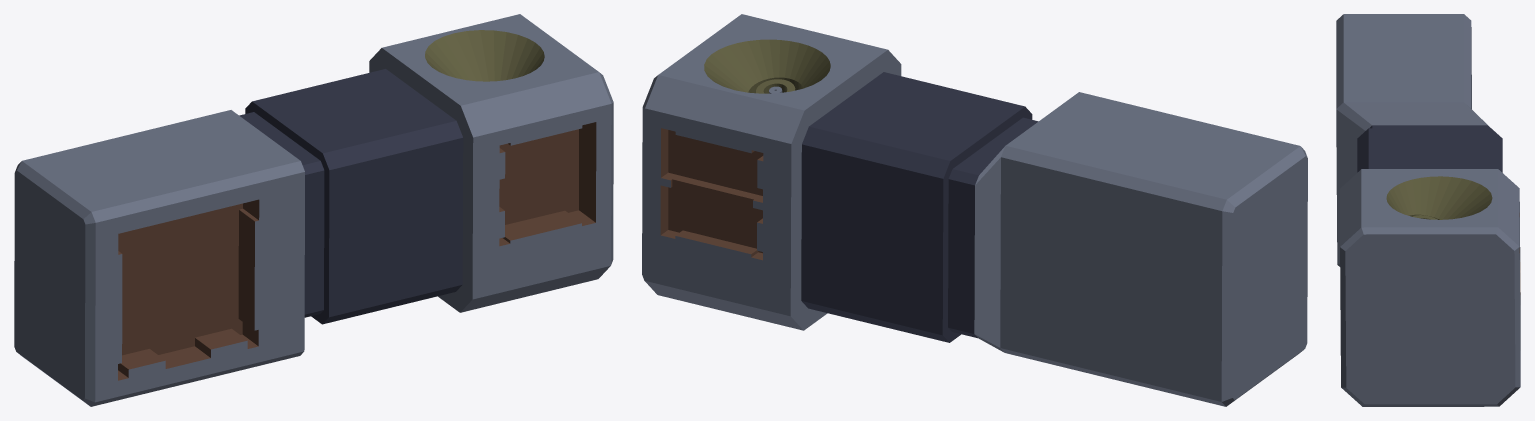
Rendered from 大门基础底层_002.fbx.
The picture shows the model from 3 angles, left to right: view 1: azimuth 30°, elevation 25°; view 2: azimuth 150°, elevation 25°; view 3: azimuth 270°, elevation 25°; orthographic projection. The views are drawn at different scales.
Parts seen in each view (by area): view 1: 大门基础底层.002; view 2: 大门基础底层.002; view 3: 大门基础底层.002.
Part boxes in pixels (x1,y1,x2,y2): 大门基础底层.002: [14, 14, 613, 406]; 大门基础底层.002: [642, 14, 1307, 406]; 大门基础底层.002: [1336, 14, 1520, 406].
Bounding box in the file's own units: 4.48 × 1.68 × 1.56.
